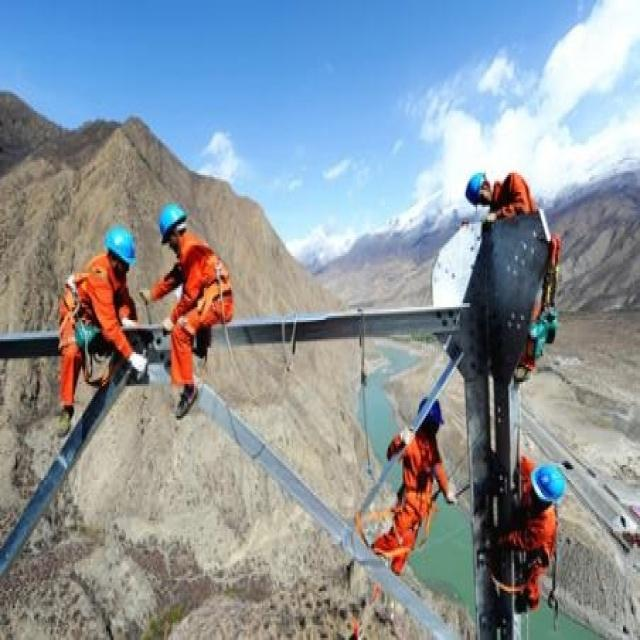helmet: (103, 296, 138, 373), (156, 268, 190, 339), (417, 524, 444, 592), (465, 226, 493, 286), (530, 609, 564, 640)
